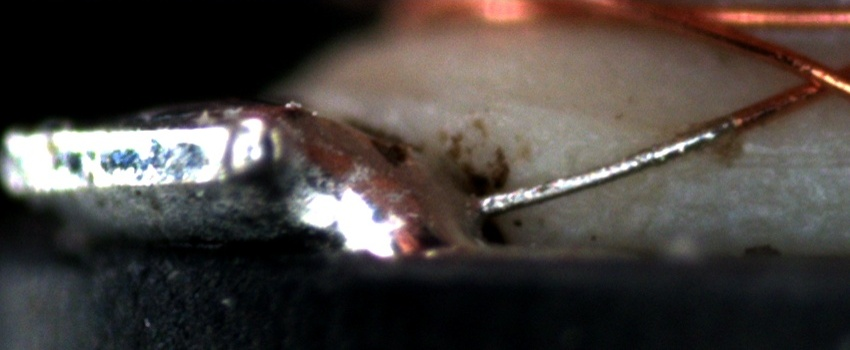CL: (778, 50, 846, 105)
DL: (731, 127, 850, 189)
TS: (480, 123, 719, 212)
